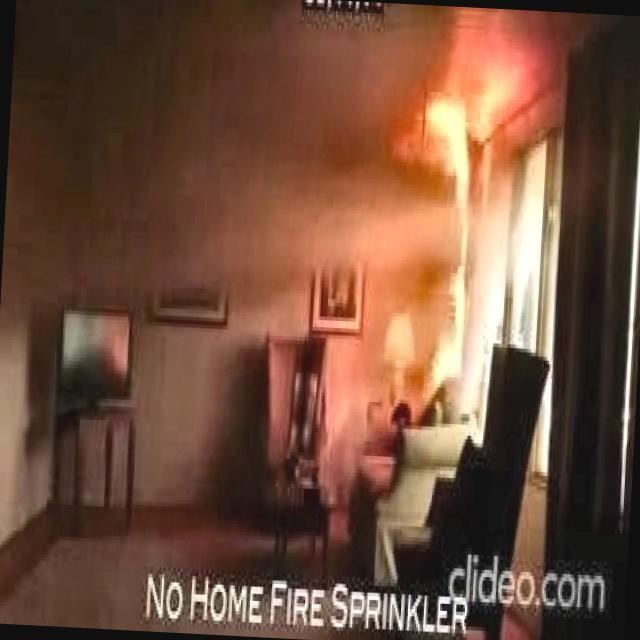fire: (374, 6, 519, 464)
